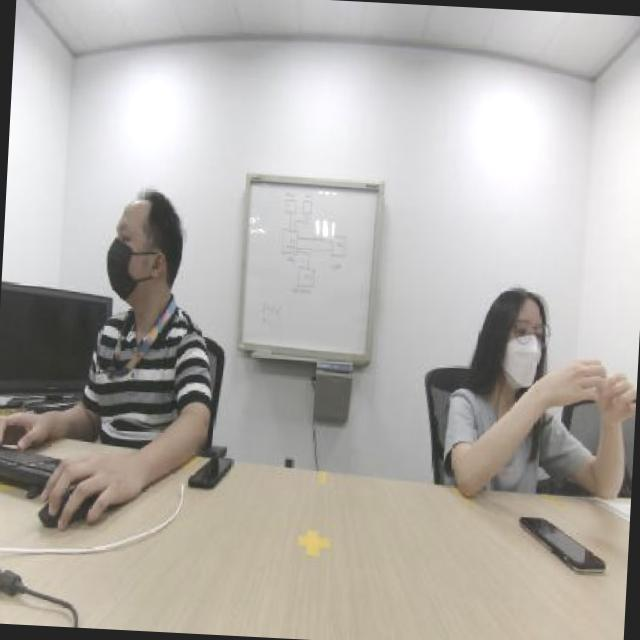Person: (49, 151, 244, 454), (437, 240, 640, 494)
